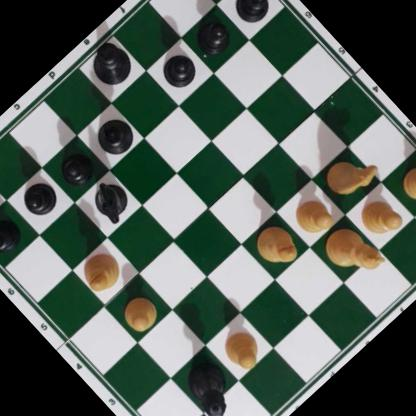black-bishop: (88, 111, 142, 165)
black-king: (81, 35, 140, 95)
black-knight: (83, 173, 137, 229)
black-pawn: (189, 13, 237, 61), (153, 46, 201, 94), (15, 176, 62, 223), (52, 145, 99, 192), (226, 0, 277, 29), (0, 211, 24, 258)
black-queen: (174, 353, 245, 416)
white-bishop: (248, 218, 306, 276), (73, 244, 129, 300)
white-king: (317, 218, 387, 288)
white-knight: (321, 143, 384, 206)
white-pawn: (353, 191, 409, 247), (215, 324, 267, 376), (286, 190, 337, 241), (116, 291, 163, 337), (395, 157, 416, 210)
